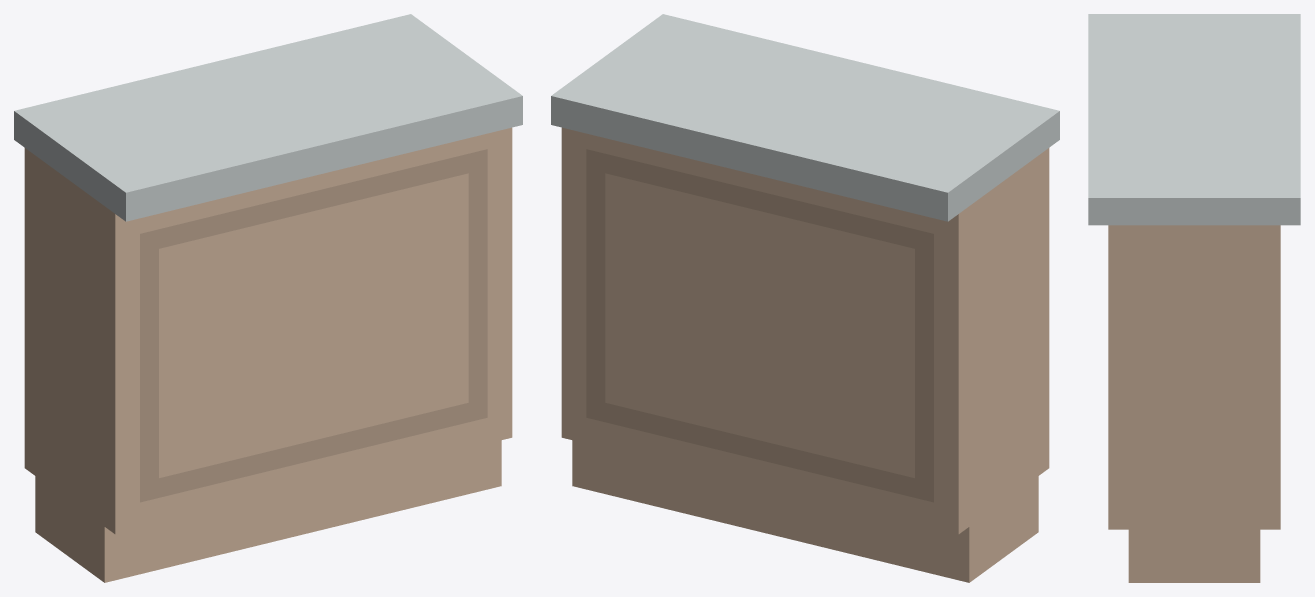
File: kitchen_bar.glb
3 renders of one model, left to right at view 1: azimuth 30°, elevation 25°; view 2: azimuth 150°, elevation 25°; view 3: azimuth 270°, elevation 25°, orthographic. The views are drawn at different scales.
Parts seen in each view (by area): view 1: kitchenBar(Clone); view 2: kitchenBar(Clone); view 3: kitchenBar(Clone).
Part boxes in pixels (x1,y1,x2,y2): kitchenBar(Clone): (14, 14, 522, 582); kitchenBar(Clone): (551, 14, 1059, 582); kitchenBar(Clone): (1088, 14, 1300, 582).
Bounding box in the file's own units: 0.903 × 0.882 × 0.441.
